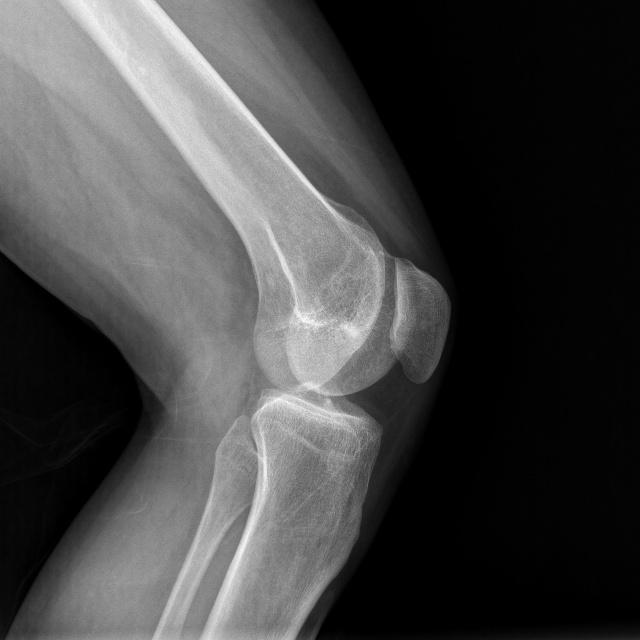Knee: (248, 250, 452, 461)
